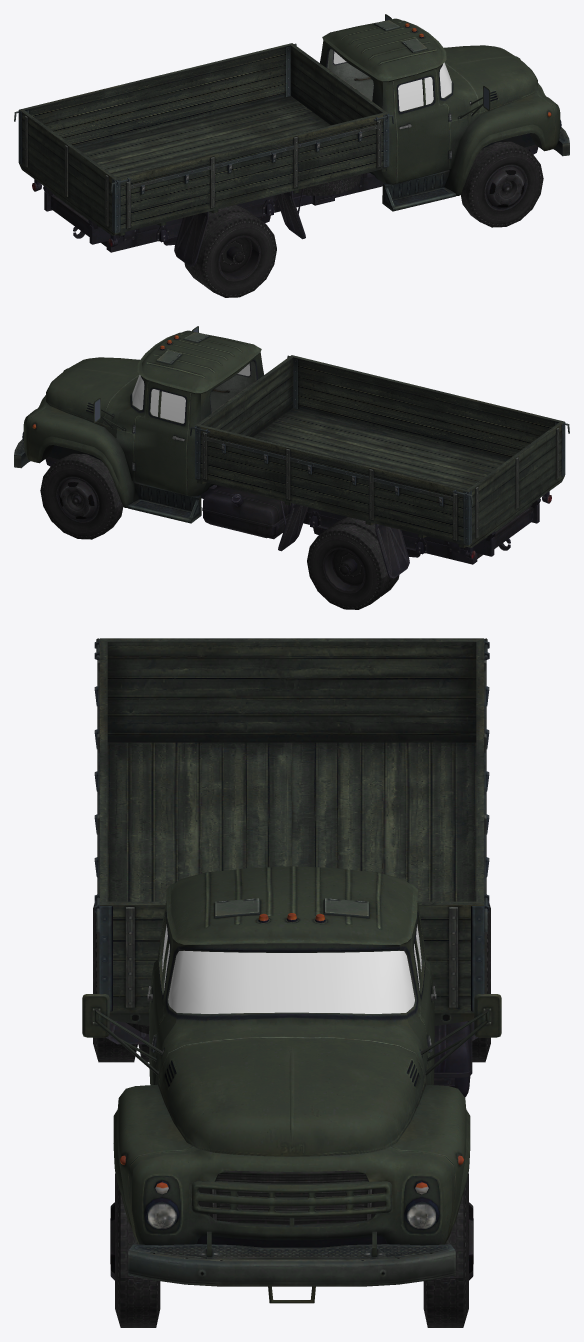
3 views of the same model, one above another, from view 1: azimuth 30°, elevation 25°; view 2: azimuth 150°, elevation 25°; view 3: azimuth 270°, elevation 25° (orthographic). The views are drawn at different scales.
Visible parts, largest first — view 1: zil130_wg_2; view 2: zil130_wg_2; view 3: zil130_wg_2.
Part boxes in pixels (x1,y1,x2,y2): zil130_wg_2: (14, 14, 569, 297); zil130_wg_2: (14, 326, 569, 609); zil130_wg_2: (82, 638, 501, 1327).
Size of the model in its own units: 6.94 by 2.49 by 2.64.
2 materials, 1 textured.
